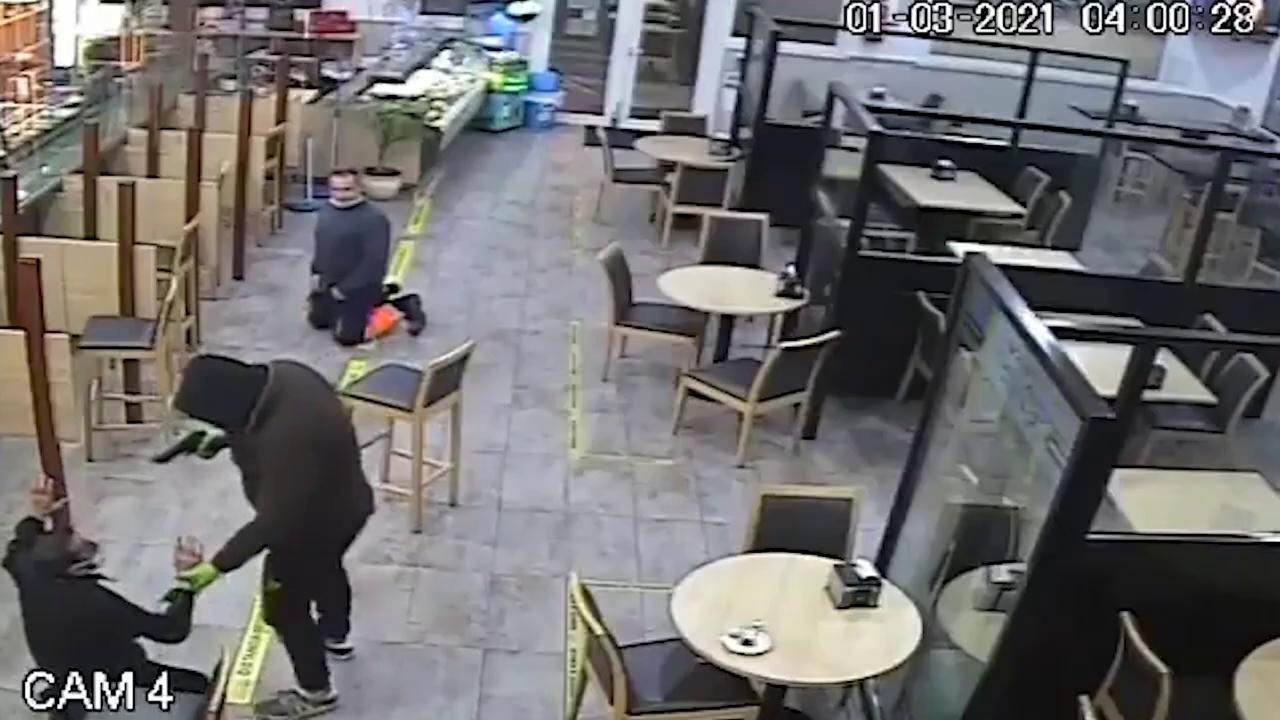Guns perspective: (122, 422, 227, 480)
